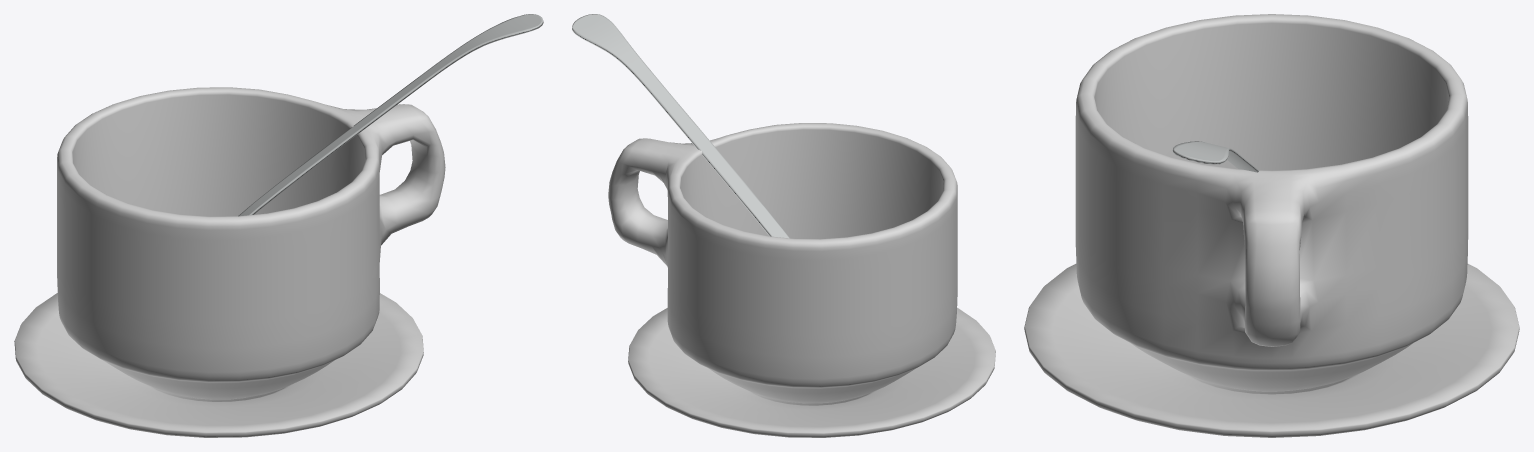
3 renders of one model, left to right at view 1: azimuth 30°, elevation 25°; view 2: azimuth 150°, elevation 25°; view 3: azimuth 270°, elevation 25°, orthographic. The views are drawn at different scales.
Parts seen in each view (by area): view 1: Cylinder, low_poly, spoonretopo; view 2: Cylinder, low_poly, spoonretopo; view 3: Cylinder, low_poly, spoonretopo.
Part boxes in pixels (left/top/right/bottom): Cylinder: left=57, top=87, right=445, bottom=399; low_poly: left=14, top=293, right=423, bottom=437; spoonretopo: left=238, top=14, right=543, bottom=216; Cylinder: left=608, top=123, right=957, bottom=403; low_poly: left=628, top=307, right=995, bottom=437; spoonretopo: left=572, top=14, right=789, bottom=238; Cylinder: left=1075, top=14, right=1468, bottom=391; low_poly: left=1024, top=264, right=1519, bottom=437; spoonretopo: left=1172, top=141, right=1259, bottom=172.
Bounding box in the file's own units: 323 × 208 × 244.
Materials: 3 (3 with a texture image).
